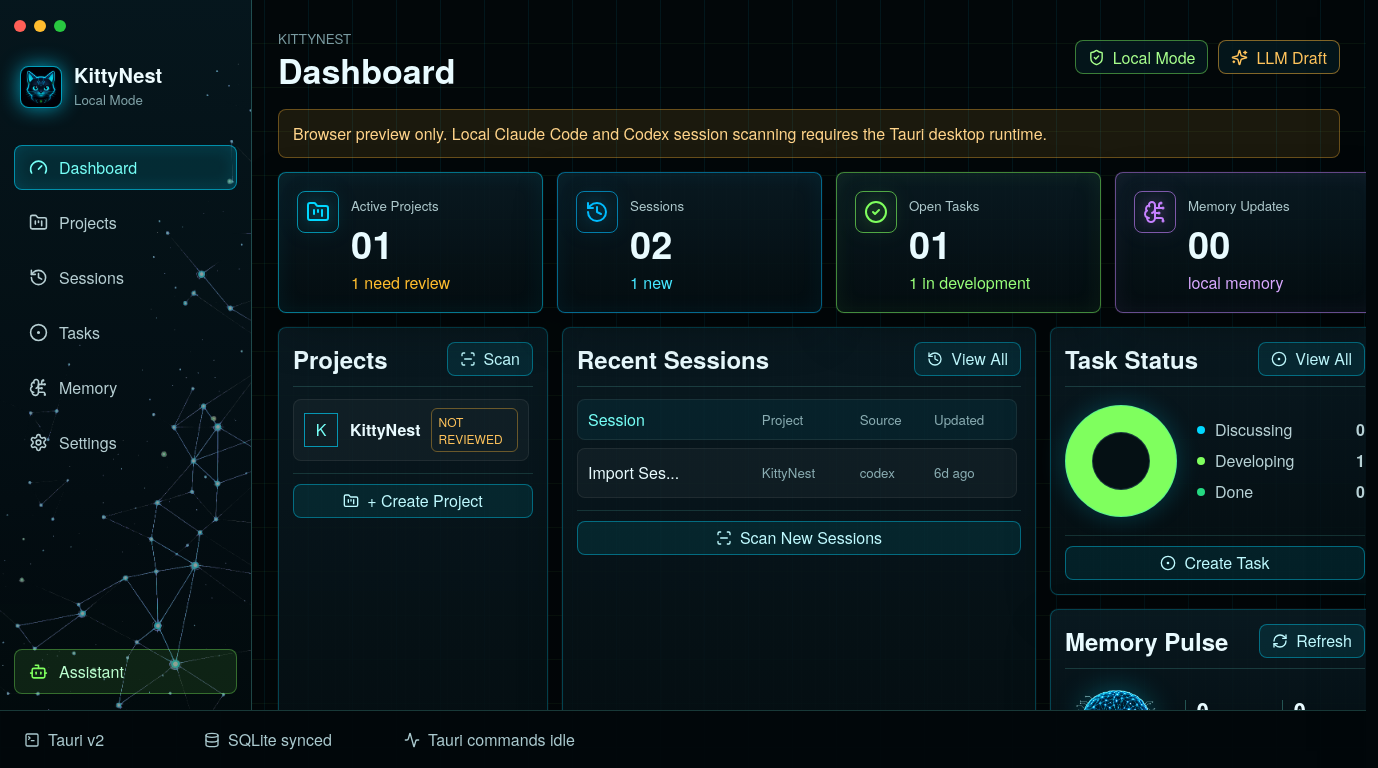
it: KittyNest dashboard › queues memory search and renders latest results
The width and height of the screenshot is (1378, 768).
Expected: the heading "Dashboard" is shown, [278,53,456,89]
Step 1. Click the button "Memory" → (126, 388), box [14,365,237,410]
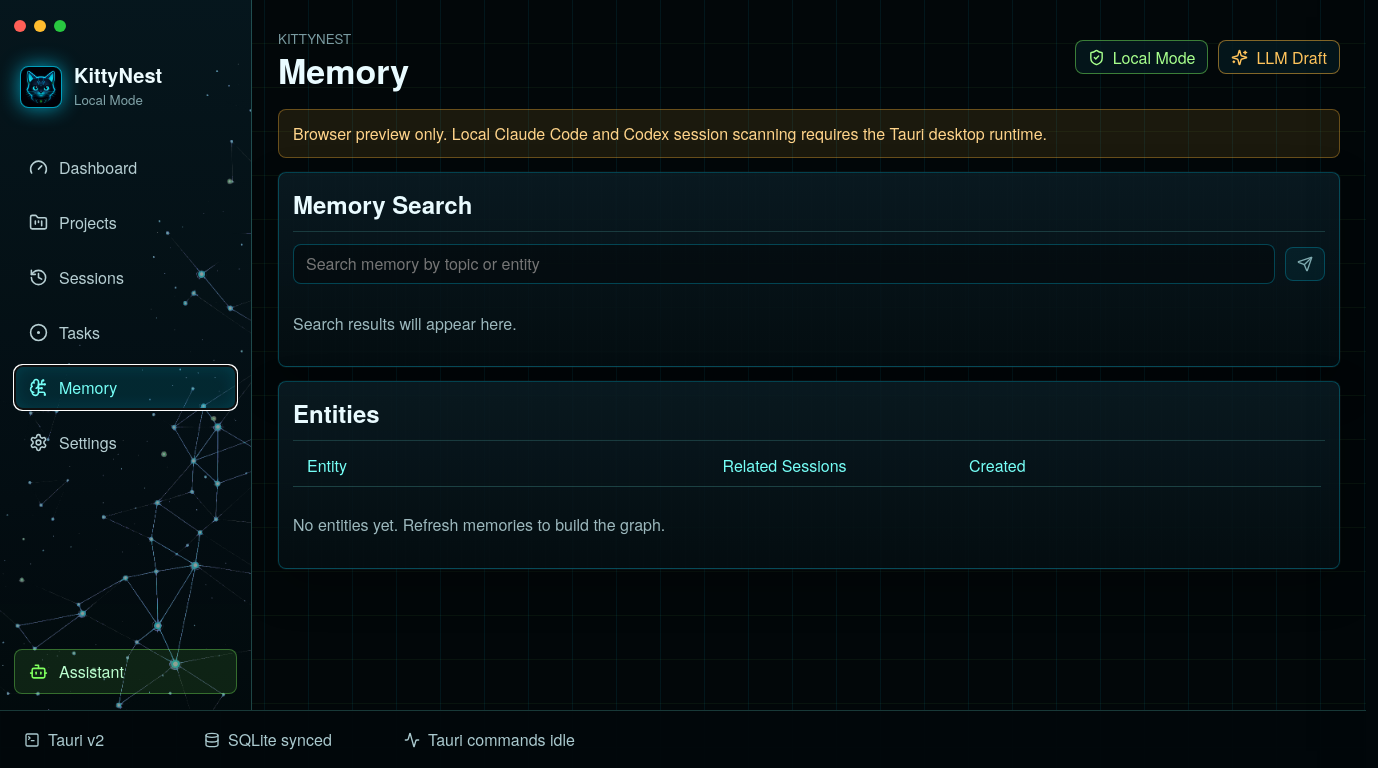
Step 2. Type "sqlite" into the field with placeholder "Search memory by topic or entity" → (784, 264), box [293,244,1275,284]
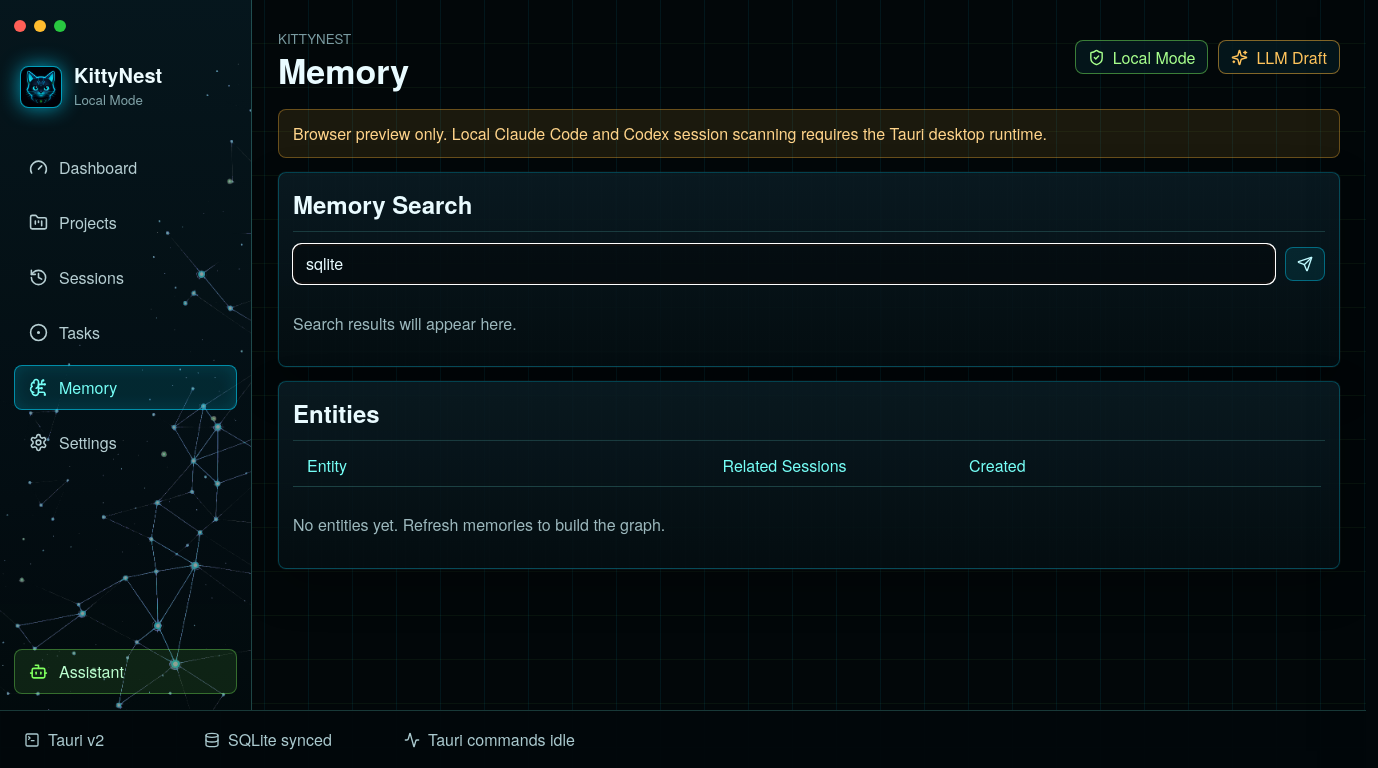
Step 3. Click the button named "Send memory search" → (1305, 264), box [1285,247,1325,281]
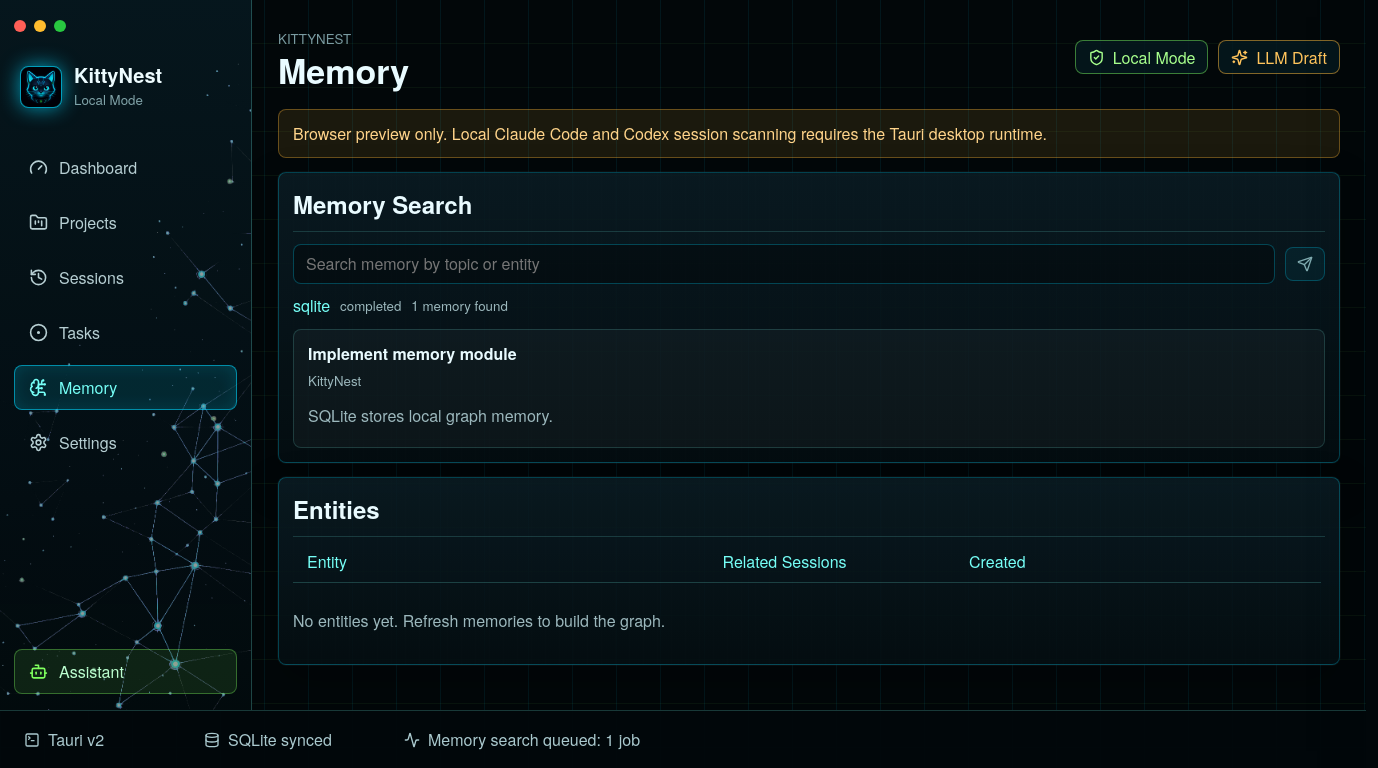
Expected: the text "Implement memory module" is shown, [308,342,516,365]
Expected: the text "SQLite stores local graph memory." is shown, [308,404,553,427]
